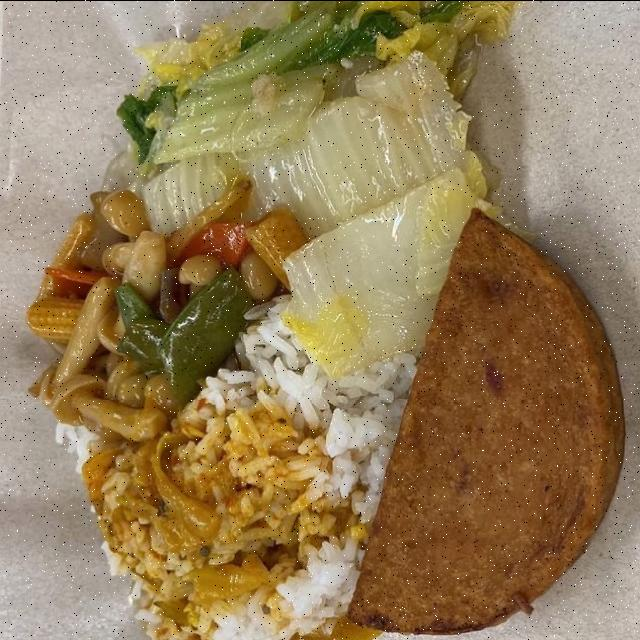Green veg: (119, 1, 488, 403)
Non green veg: (26, 178, 305, 374)
Pork: (350, 212, 624, 634)
Rice: (56, 297, 416, 640)
